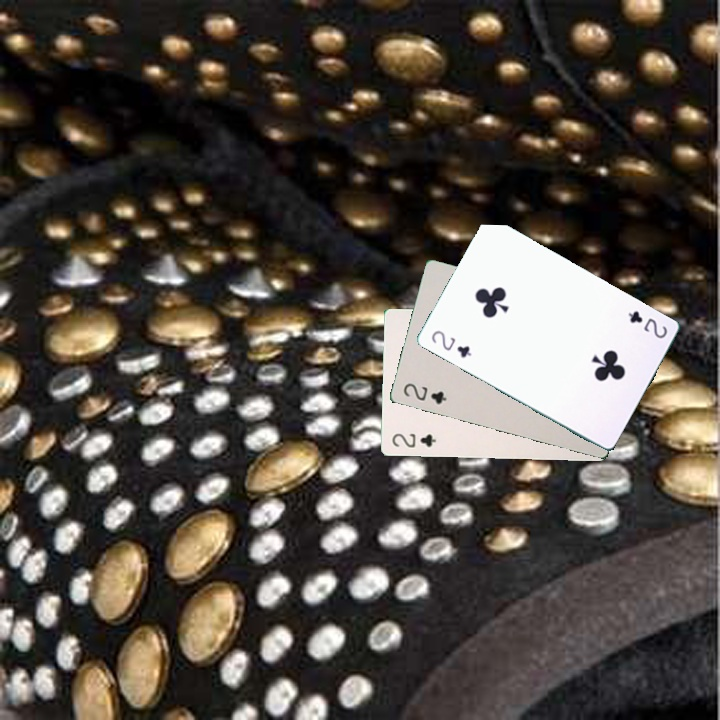2c: (427, 326, 474, 360), (624, 307, 670, 341), (399, 379, 449, 407), (388, 429, 439, 450)
